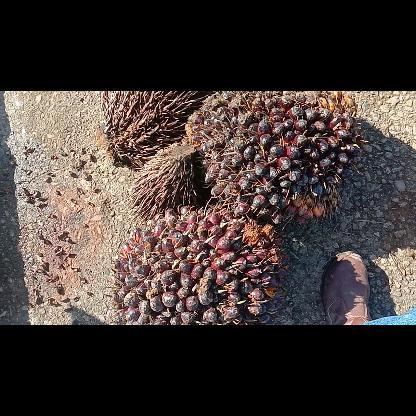Janjang kosong: (96, 91, 206, 165), (127, 142, 196, 226)
TBS mentah: (185, 91, 367, 225), (110, 204, 288, 324)
